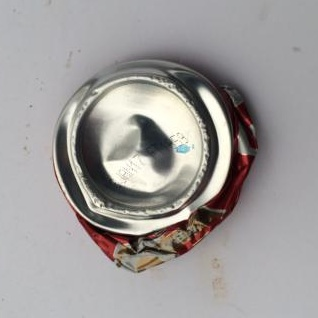Metal: (41, 59, 277, 276)
